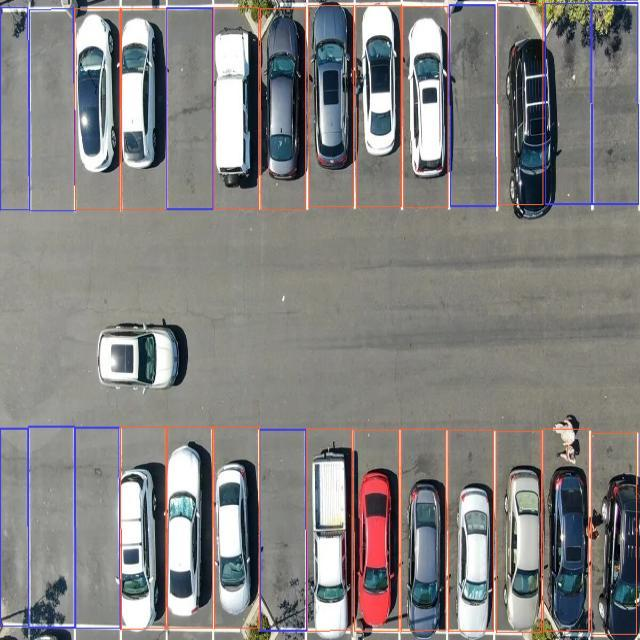Car: (211, 425, 258, 631), (261, 8, 309, 208), (76, 9, 124, 207), (544, 428, 591, 630), (595, 431, 640, 640), (354, 5, 401, 204), (213, 9, 260, 207), (355, 429, 401, 631), (500, 6, 546, 207), (402, 2, 447, 207), (120, 428, 165, 630), (452, 425, 496, 631), (404, 428, 448, 633), (167, 426, 210, 632), (308, 431, 352, 632), (311, 6, 352, 206), (126, 8, 166, 210), (501, 430, 537, 630), (90, 320, 190, 391)
Free: (451, 5, 499, 207), (166, 10, 214, 209), (260, 428, 306, 630), (547, 2, 592, 202), (33, 425, 76, 628), (595, 4, 637, 205), (32, 9, 74, 208), (78, 426, 118, 627), (2, 430, 30, 626), (3, 10, 30, 210)
